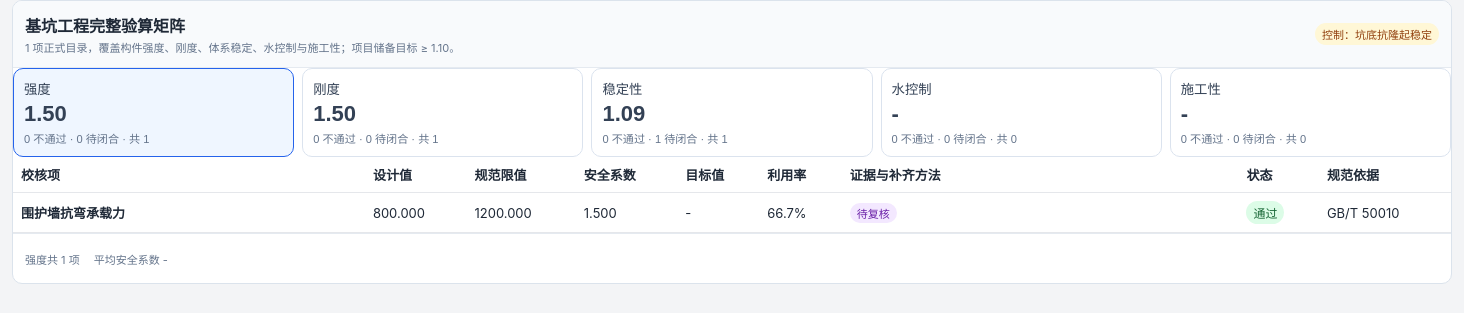
Test case: Core engineering presentation › shows strength stiffness and stability safety factors in one professional matrix
Expected: the text "基坑工程完整验算矩阵" is shown, x1=25 y1=16 x2=185 y2=36
Expected: the text "围护墙抗弯承载力" is shown, x1=21 y1=205 x2=125 y2=221
Click the button "稳定性 1.09 0 不通过 · 1 待闭合 · 共 1" at [622, 90], box x1=591 y1=68 x2=873 y2=157
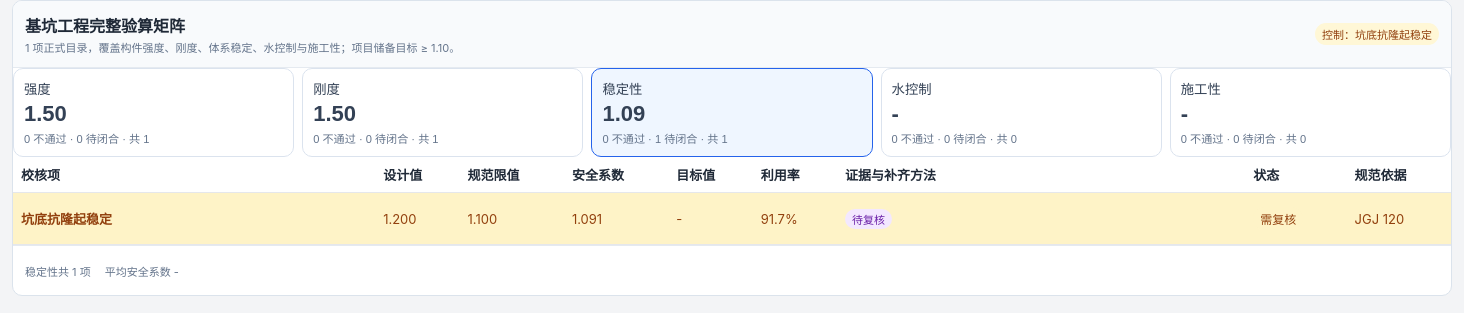
Result: the text "坑底抗隆起稳定" is shown at x1=21 y1=211 x2=112 y2=227
